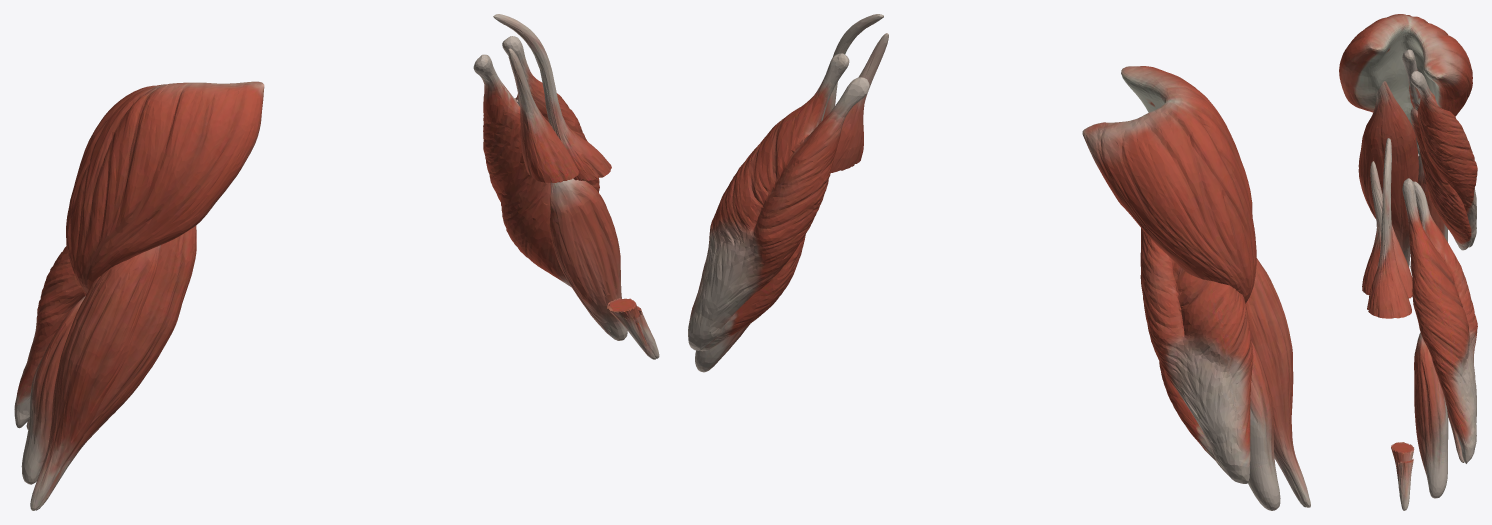
Rendered from SubTool-6-14252097.OBJ.
The picture shows the model from 3 angles, left to right: view 1: azimuth 30°, elevation 25°; view 2: azimuth 150°, elevation 25°; view 3: azimuth 270°, elevation 25°; orthographic projection. The views are drawn at different scales.
Visible parts, largest first — view 1: Group24742; view 2: Group24742; view 3: Group24742.
Part boxes in pixels (x1,y1,x2,y2): Group24742: [14, 14, 659, 510]; Group24742: [688, 14, 1310, 510]; Group24742: [1339, 14, 1477, 510].
Size of the model in its own units: 24.91 by 15.02 by 6.09.
1 material, 1 textured.
